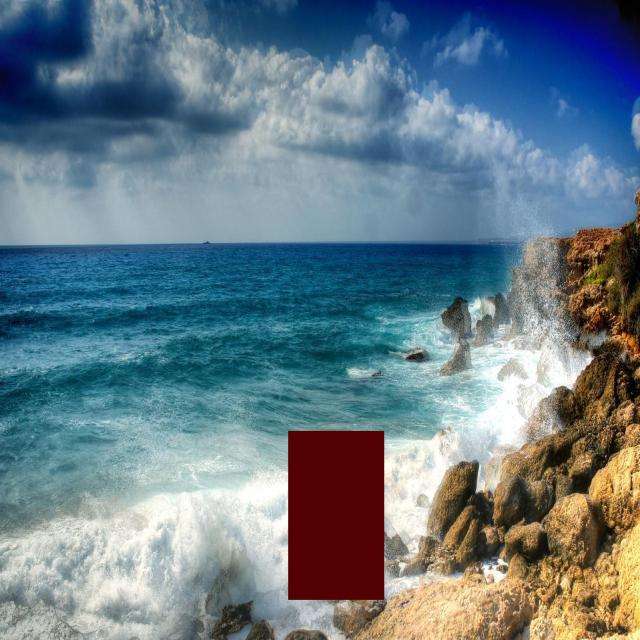RedSquare: (282, 422, 390, 607)
